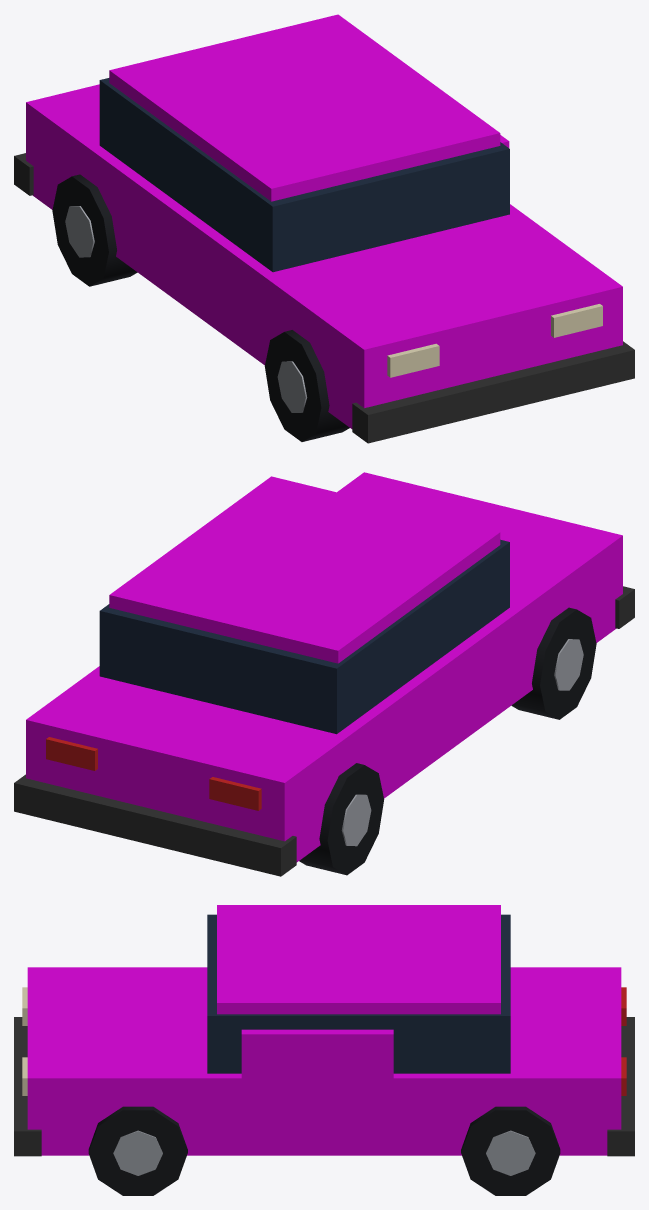
The model's file is sedan.glb.
3 renders of one model, top to bottom at view 1: azimuth 30°, elevation 25°; view 2: azimuth 150°, elevation 25°; view 3: azimuth 270°, elevation 25°, orthographic. The views are drawn at different scales.
Parts seen in each view (by area): view 1: body; view 2: body; view 3: body, door.
Part boxes in pixels (x1=…): body: x1=14, y1=14, x2=634, y2=443; body: x1=14, y1=472, x2=634, y2=876; body: x1=14, y1=905, x2=634, y2=1195; door: x1=241, y1=1029, x2=393, y2=1149.
Size of what is drawn, in the model's own units: 2.04 by 1.46 by 4.5.
